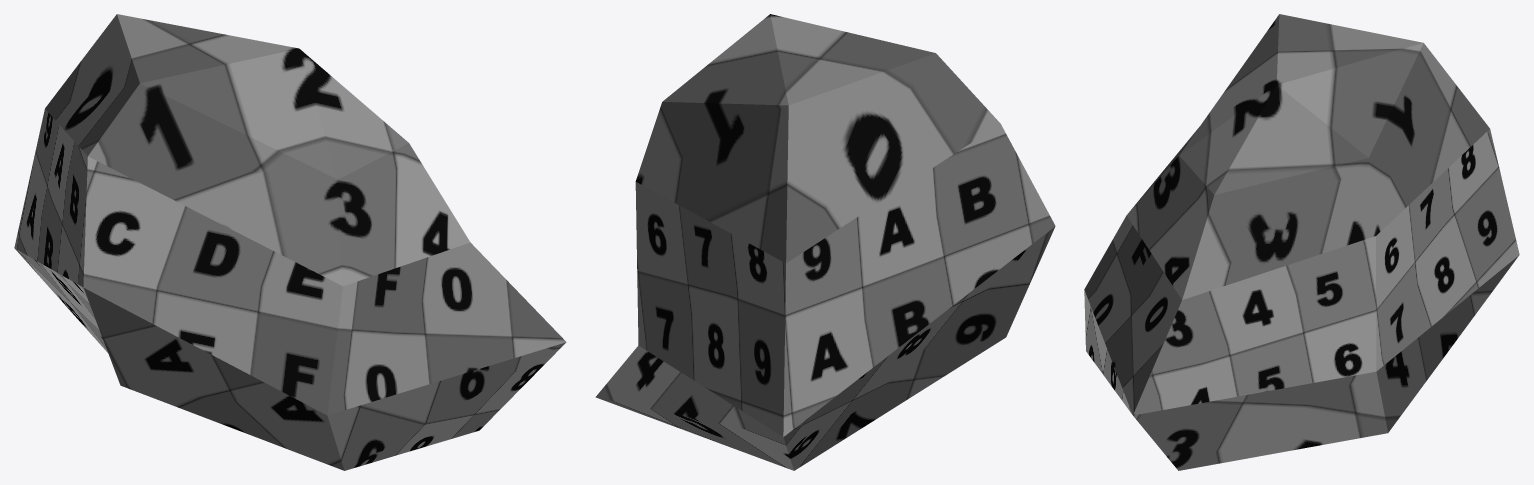
Rendered from Rock3.fbx.
3 renders of one model, left to right at view 1: azimuth 30°, elevation 25°; view 2: azimuth 150°, elevation 25°; view 3: azimuth 270°, elevation 25°, orthographic. The views are drawn at different scales.
Visible parts, largest first — view 1: Rock4; view 2: Rock4; view 3: Rock4.
Boxes of the visible parts, x1,y1,x2,y2 form: Rock4: (14, 14, 566, 470); Rock4: (595, 14, 1055, 470); Rock4: (1084, 14, 1519, 470).
Bounding box in the file's own units: 2.58 × 2.16 × 2.55.
Materials: 1 (1 with a texture image).
